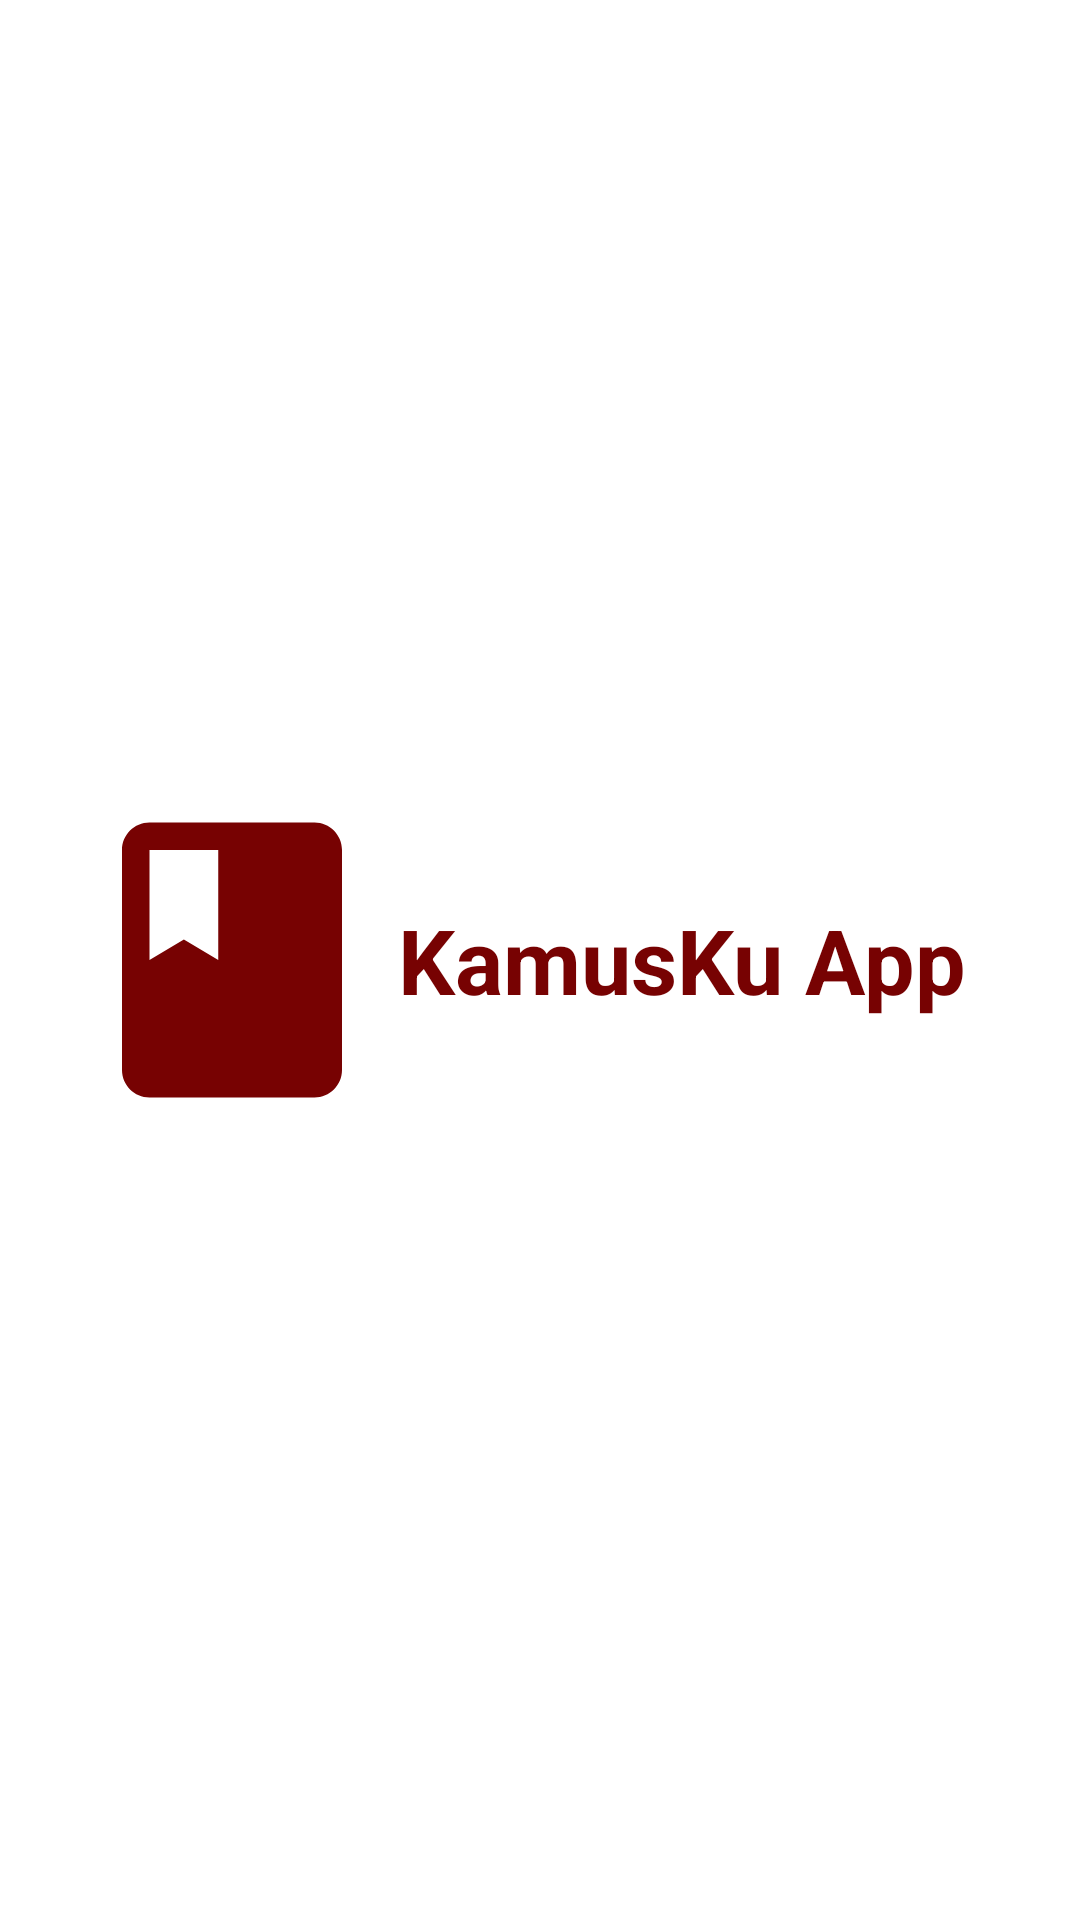

Point at icon controls on the screen. Image size 1080 x 1920, points as (x,y).
class: (232,960)
